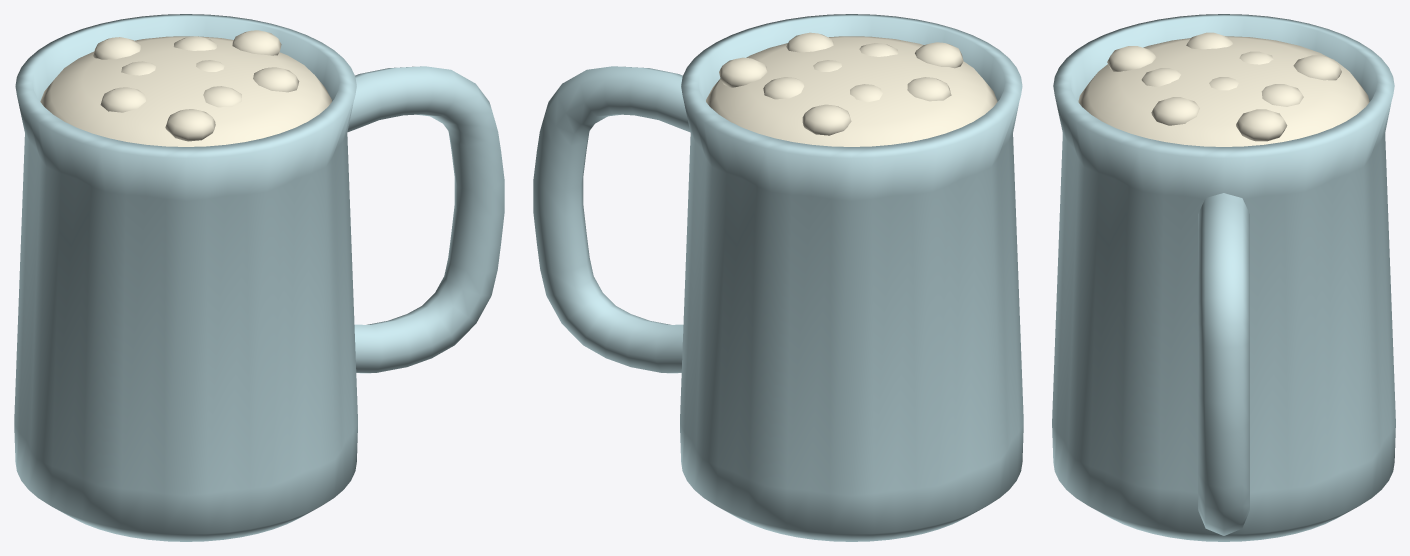
File: beer_mug.glb
The picture shows the model from 3 angles, left to right: view 1: azimuth 30°, elevation 25°; view 2: azimuth 150°, elevation 25°; view 3: azimuth 270°, elevation 25°; orthographic projection.
Parts seen in each view (by area): view 1: BeerMug; view 2: BeerMug; view 3: BeerMug.
Part boxes in pixels (bbox=[...]): BeerMug: bbox=[14, 14, 504, 541]; BeerMug: bbox=[533, 14, 1023, 541]; BeerMug: bbox=[1052, 14, 1395, 541].
Bounding box in the file's own units: 0.2485 × 0.2106 × 0.1592.
